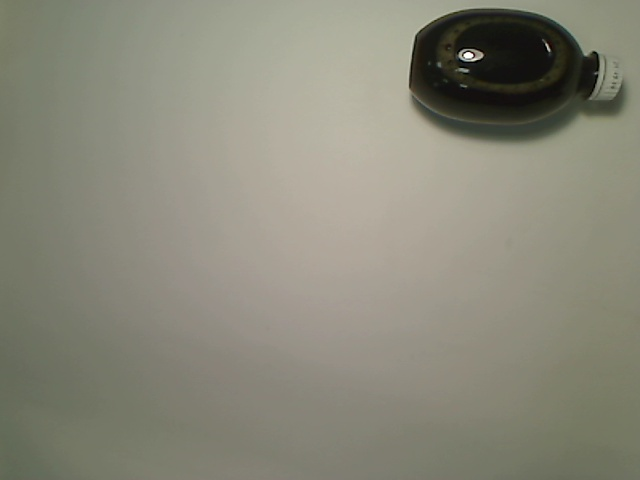plast_bottle: (408, 7, 627, 129)
